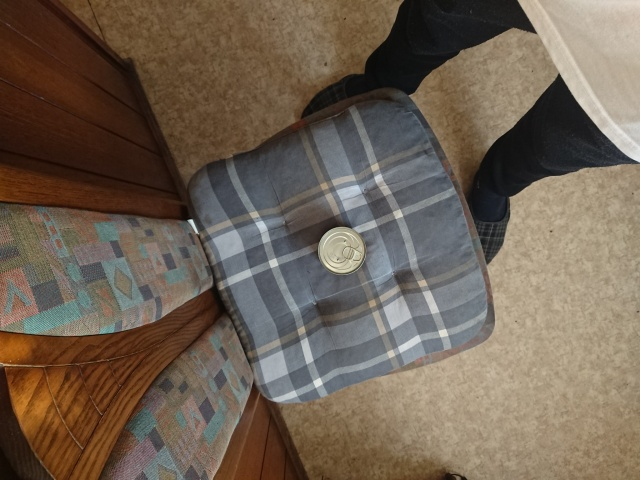Podravka Luncheon Meat 150g: (315, 224, 368, 278)
